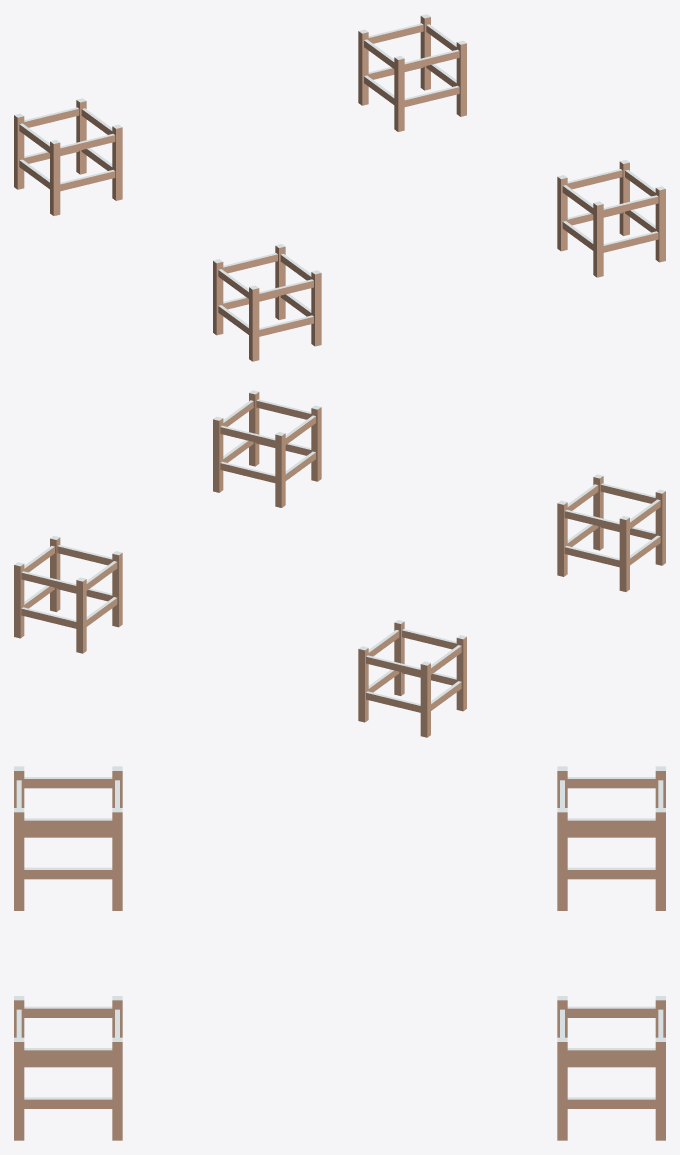
File: world_1.glb
The picture shows the model from 3 angles, top to bottom: view 1: azimuth 30°, elevation 25°; view 2: azimuth 150°, elevation 25°; view 3: azimuth 270°, elevation 25°; orthographic projection. The views are drawn at different scales.
Parts seen in each view (by area): view 1: snow_woodStructure_high.001, snow_woodStructure_high, snow_woodStructure_high.003, snow_woodStructure_high.002; view 2: snow_woodStructure_high.002, snow_woodStructure_high, snow_woodStructure_high.003, snow_woodStructure_high.001; view 3: snow_woodStructure_high.001, snow_woodStructure_high.002, snow_woodStructure_high, snow_woodStructure_high.003.
Boxes of the visible parts, x1=… form: snow_woodStructure_high.001: x1=14, y1=98, x2=122, y2=215; snow_woodStructure_high: x1=358, y1=14, x2=466, y2=131; snow_woodStructure_high.003: x1=557, y1=160, x2=665, y2=277; snow_woodStructure_high.002: x1=213, y1=244, x2=321, y2=361; snow_woodStructure_high.002: x1=557, y1=474, x2=665, y2=591; snow_woodStructure_high: x1=14, y1=536, x2=122, y2=653; snow_woodStructure_high.003: x1=213, y1=390, x2=321, y2=507; snow_woodStructure_high.001: x1=358, y1=620, x2=466, y2=737; snow_woodStructure_high.001: x1=557, y1=766, x2=665, y2=910; snow_woodStructure_high.002: x1=14, y1=766, x2=122, y2=910; snow_woodStructure_high: x1=557, y1=996, x2=665, y2=1140; snow_woodStructure_high.003: x1=14, y1=996, x2=122, y2=1140.
Size of what is drawn, in the model's own units: 6 by 1 by 6.
